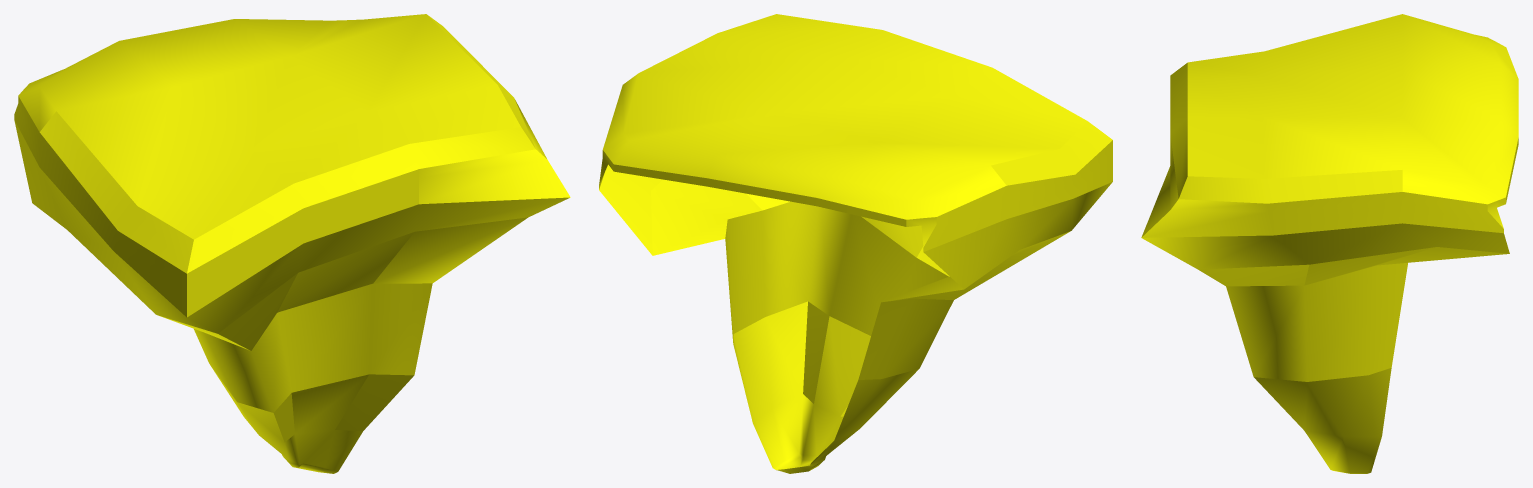
The model's file is Plat1_big_Mesh.FBX.
3 views of the same model, side by side, from view 1: azimuth 30°, elevation 25°; view 2: azimuth 150°, elevation 25°; view 3: azimuth 270°, elevation 25° (orthographic). The views are drawn at different scales.
Parts seen in each view (by area): view 1: Plattform2; view 2: Plattform2; view 3: Plattform2.
Part boxes in pixels (x1,y1,x2,y2): Plattform2: (14,14,570,473); Plattform2: (599,14,1112,473); Plattform2: (1141,14,1518,473).
Bounding box in the file's own units: 24 × 22.84 × 21.67.
